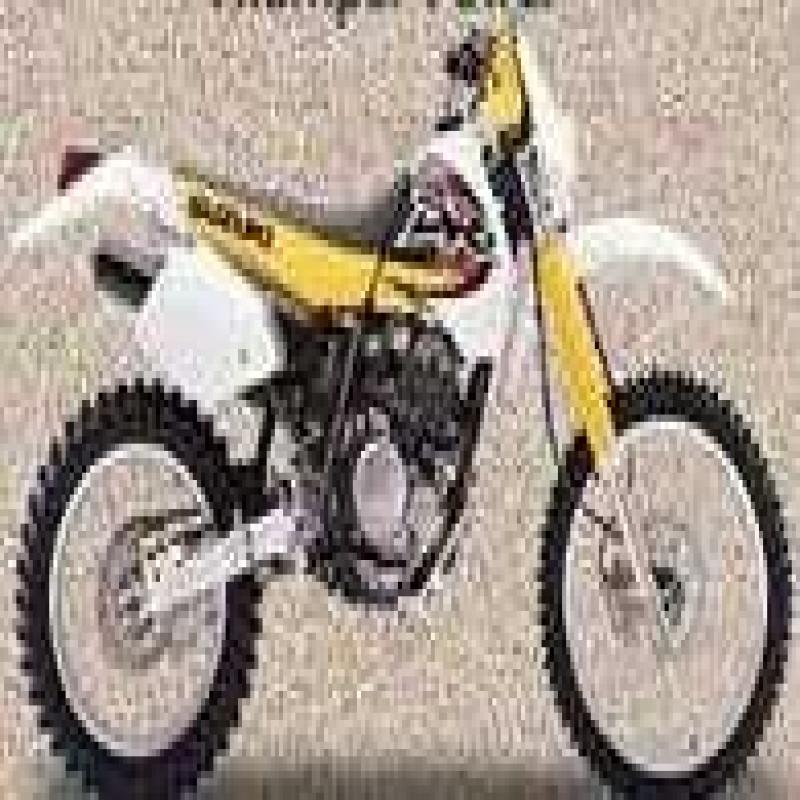bike: (12, 0, 800, 793)
